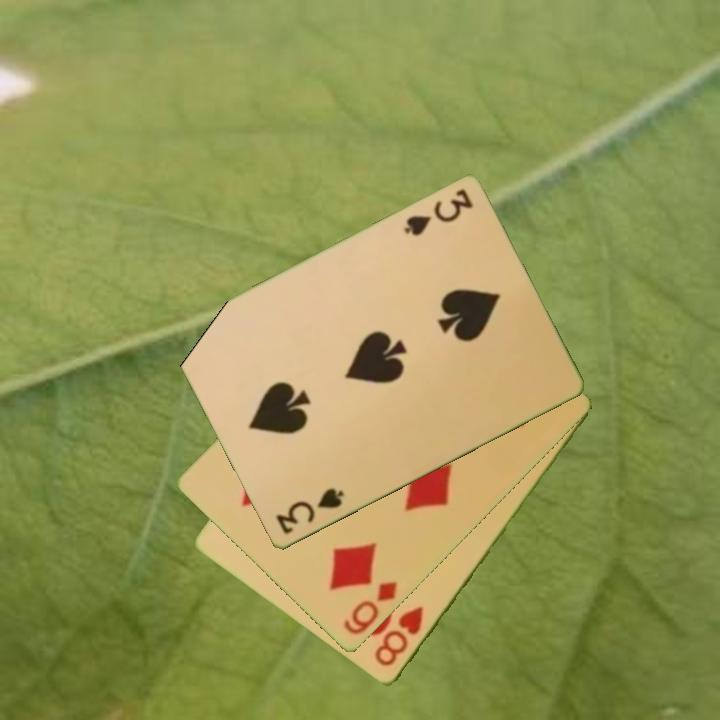3s: (400, 186, 476, 240), (272, 485, 347, 538)
6d: (340, 578, 401, 639)
8h: (371, 603, 427, 670)
